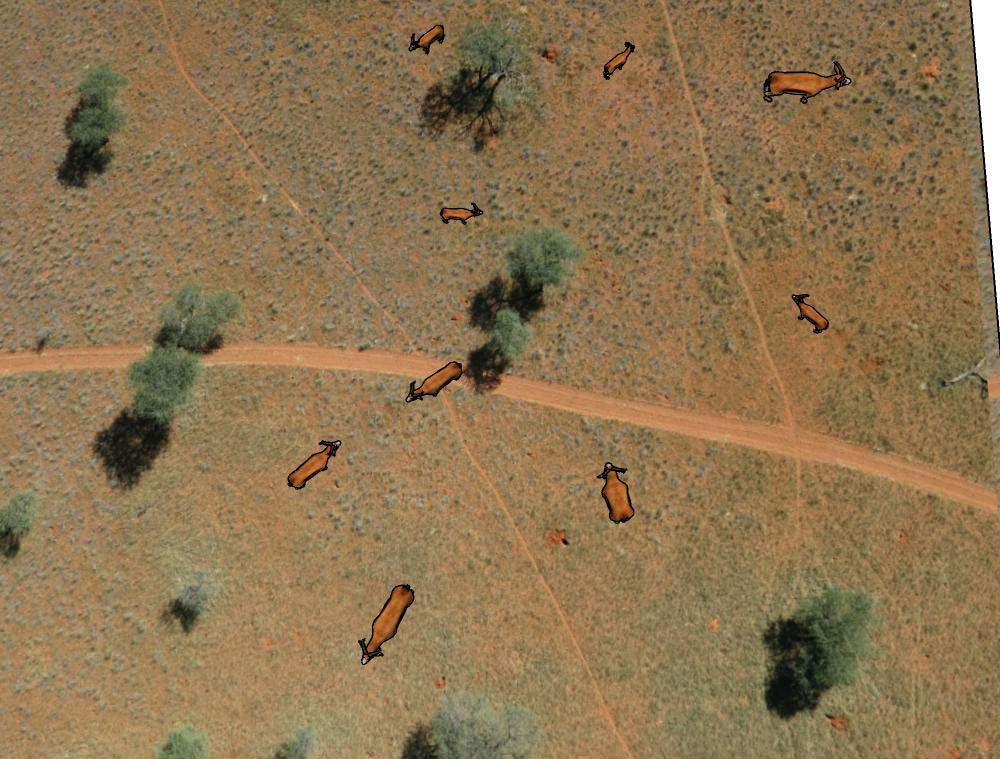springbok: (359, 581, 417, 671), (761, 60, 856, 110), (289, 432, 342, 496), (594, 458, 643, 527), (403, 361, 465, 407), (787, 290, 833, 338), (600, 39, 639, 82), (407, 19, 446, 58), (439, 199, 485, 226)
